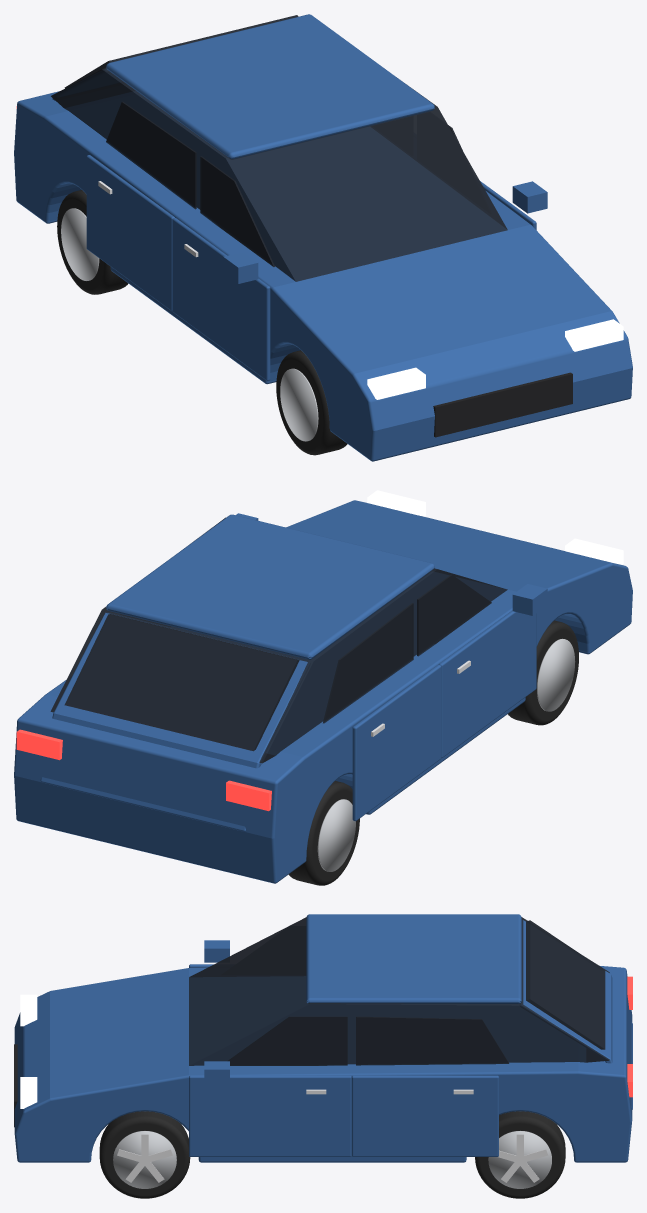
The picture shows the model from 3 angles, top to bottom: view 1: azimuth 30°, elevation 25°; view 2: azimuth 150°, elevation 25°; view 3: azimuth 270°, elevation 25°; orthographic projection. The views are drawn at different scales.
Visible parts, largest first — view 1: body, cabin_glass, roof, front_right_door, rear_right_door, rear_right_door_glass, grille, front_right_door_glass, front_right_wheel, front_right_wheel_rim, rear_right_wheel_rim, rear_right_wheel (+6 smaller); view 2: body, roof, rear_hatch_glass, front_right_door, rear_right_door, cabin_glass, rear_hatch, rear_right_door_glass, front_right_door_glass, rear_right_wheel, front_right_wheel, front_right_wheel_rim (+6 smaller); view 3: body, roof, cabin_glass, front_left_door, rear_left_door, rear_left_door_glass, rear_hatch_glass, front_left_door_glass, front_left_wheel, rear_left_wheel, front_left_wheel_rim, rear_left_wheel_rim (+5 smaller).
Boxes of the visible parts, x1,y1,x2,y2 form: body: (14,91,632,461); cabin_glass: (51,68,507,281); roof: (106,14,434,159); front_right_door: (172,218,270,380); rear_right_door: (86,155,174,311); rear_right_door_glass: (106,101,196,209); grille: (433,372,572,437); front_right_door_glass: (200,156,274,266); front_right_wheel: (276,350,347,455); front_right_wheel_rim: (280,368,318,441); rear_right_wheel_rim: (61,208,99,280); rear_right_wheel: (57,190,128,294); body: (14,500,632,883); roof: (106,514,434,659); rear_hatch_glass: (64,614,299,751); front_right_door: (439,610,536,758); rear_right_door: (352,665,441,821); cabin_glass: (50,517,507,763); rear_hatch: (40,612,310,831); rear_right_door_glass: (323,603,413,723); front_right_door_glass: (417,574,491,656); rear_right_wheel: (288,781,359,885); front_right_wheel: (508,620,578,725); front_right_wheel_rim: (537,638,575,711); body: (14,965,632,1162); roof: (306,914,521,1003); cabin_glass: (189,917,609,1065); front_left_door: (189,1075,351,1156); rear_left_door: (351,1075,498,1156); rear_left_door_glass: (356,1016,509,1065); rear_hatch_glass: (526,920,605,1049); front_left_door_glass: (227,1016,347,1065); front_left_wheel: (99,1111,190,1198); rear_left_wheel: (475,1111,565,1198); front_left_wheel_rim: (113,1131,176,1188); rear_left_wheel_rim: (488,1130,551,1188).
Bounding box in the file's own units: 2.16 × 1.49 × 4.37.
